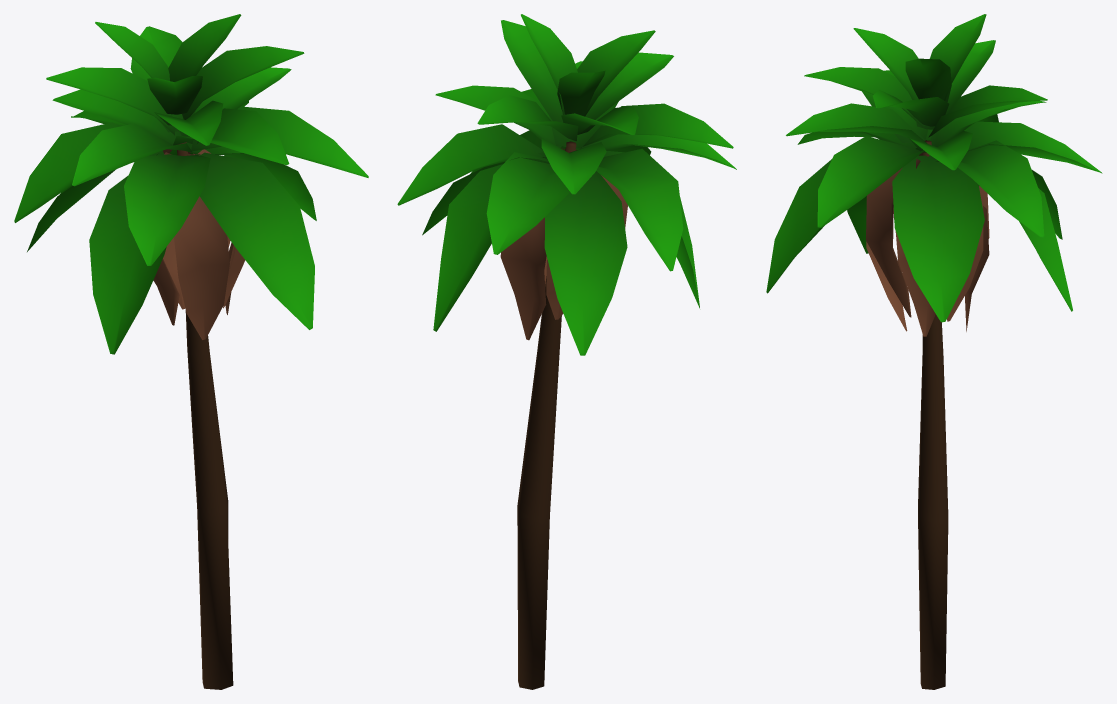
Rendered from VEG0210003.fbx.
3 renders of one model, left to right at view 1: azimuth 30°, elevation 25°; view 2: azimuth 150°, elevation 25°; view 3: azimuth 270°, elevation 25°, orthographic. The views are drawn at different scales.
Parts seen in each view (by area): view 1: smVEG0210003; view 2: smVEG0210003; view 3: smVEG0210003.
Part boxes in pixels (x1,y1,x2,y2): smVEG0210003: (14,14,368,689); smVEG0210003: (397,14,736,689); smVEG0210003: (766,14,1102,689).
Bounding box in the file's own units: 234 × 536 × 258.
2 materials, 2 textured.
